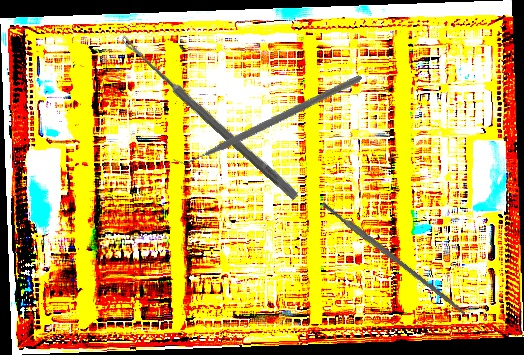Chopper: (169, 13, 363, 222)
Scalpel Handle: (320, 199, 468, 317)
Surgical Spoon: (117, 34, 301, 201)
